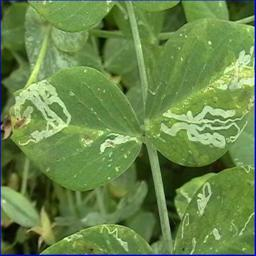liriomyza: (158, 103, 249, 151), (10, 79, 71, 146), (213, 45, 254, 90), (97, 131, 138, 154), (99, 224, 129, 253), (230, 211, 254, 237), (196, 181, 210, 217), (63, 232, 83, 248), (202, 227, 221, 243), (179, 213, 190, 239), (187, 238, 197, 255), (239, 163, 253, 174)
